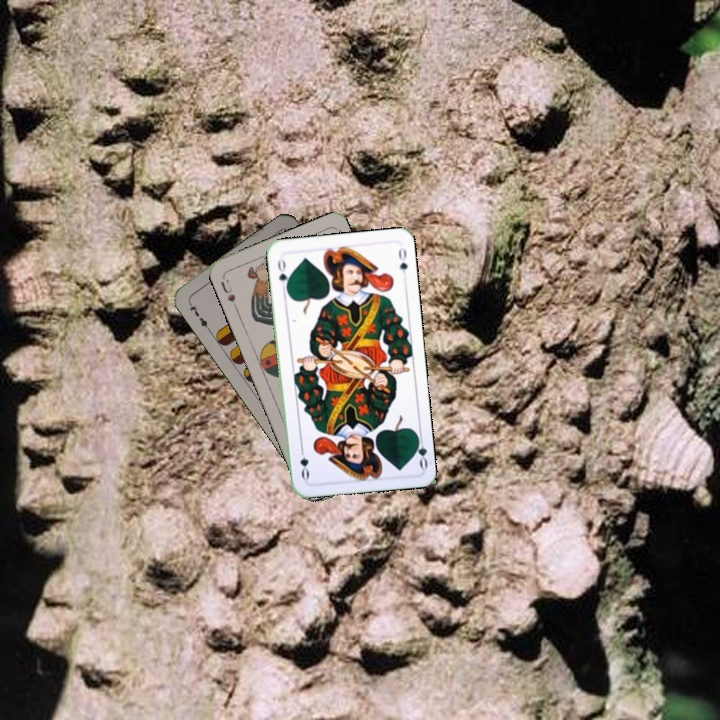E7: (184, 297, 212, 333)
GO: (410, 430, 430, 471), (274, 254, 292, 294)
SU: (216, 276, 240, 312)
